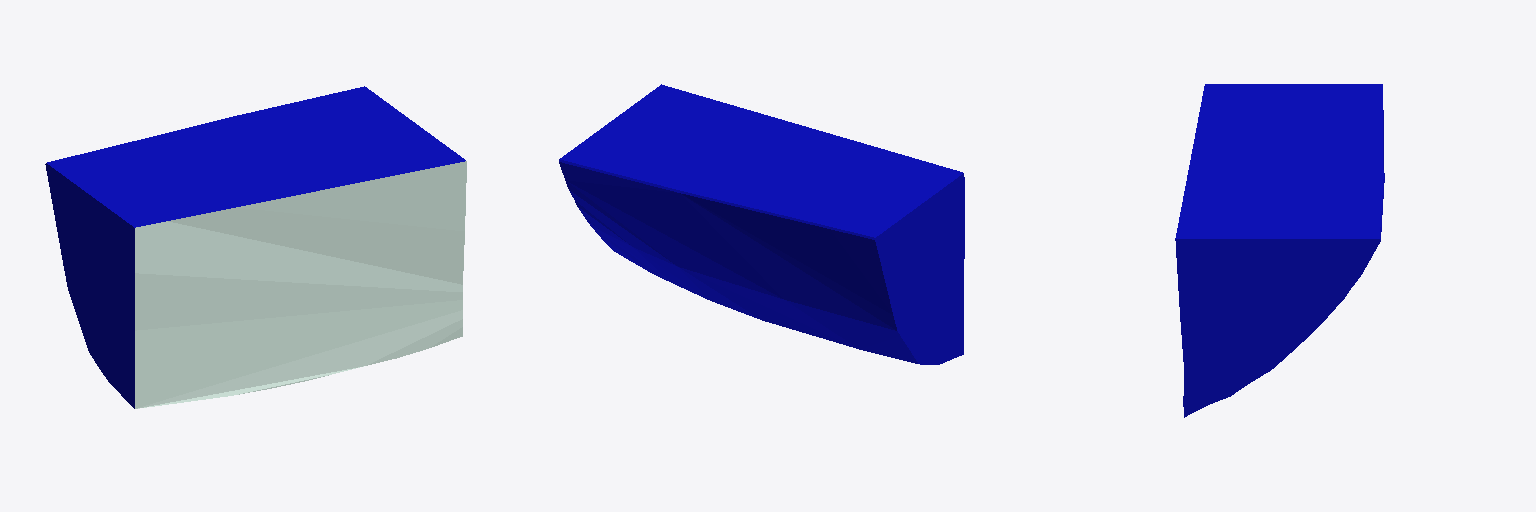
Rendered from centerRight.obj.
The picture shows the model from 3 angles: view 1: azimuth 30°, elevation 25°; view 2: azimuth 150°, elevation 25°; view 3: azimuth 270°, elevation 25°; orthographic projection.
Parts seen in each view (by area): view 1: centerRight_Cabin_Plane.001_Windows.004; view 2: centerRight_Cabin_Plane.001_Windows.004; view 3: centerRight_Cabin_Plane.001_Windows.004.
Boxes of the visible parts, box(x1,y1,x2,y2) form: centerRight_Cabin_Plane.001_Windows.004: box(45, 86, 466, 408); centerRight_Cabin_Plane.001_Windows.004: box(559, 84, 964, 364); centerRight_Cabin_Plane.001_Windows.004: box(1175, 84, 1384, 417).
Size of the model in its own units: 1.8 by 1.02 by 1.03.